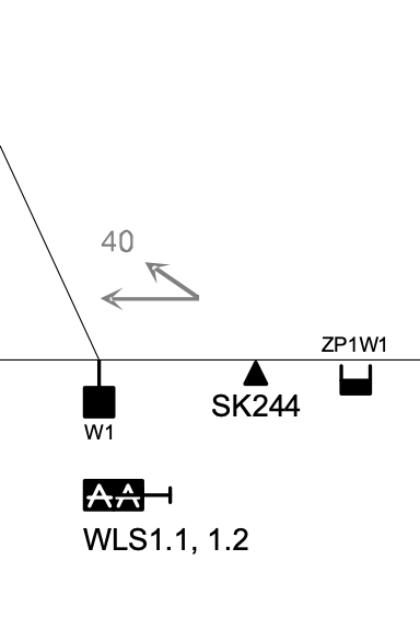radzaehler: (336, 356, 380, 399)
weiche: (75, 348, 125, 426)
